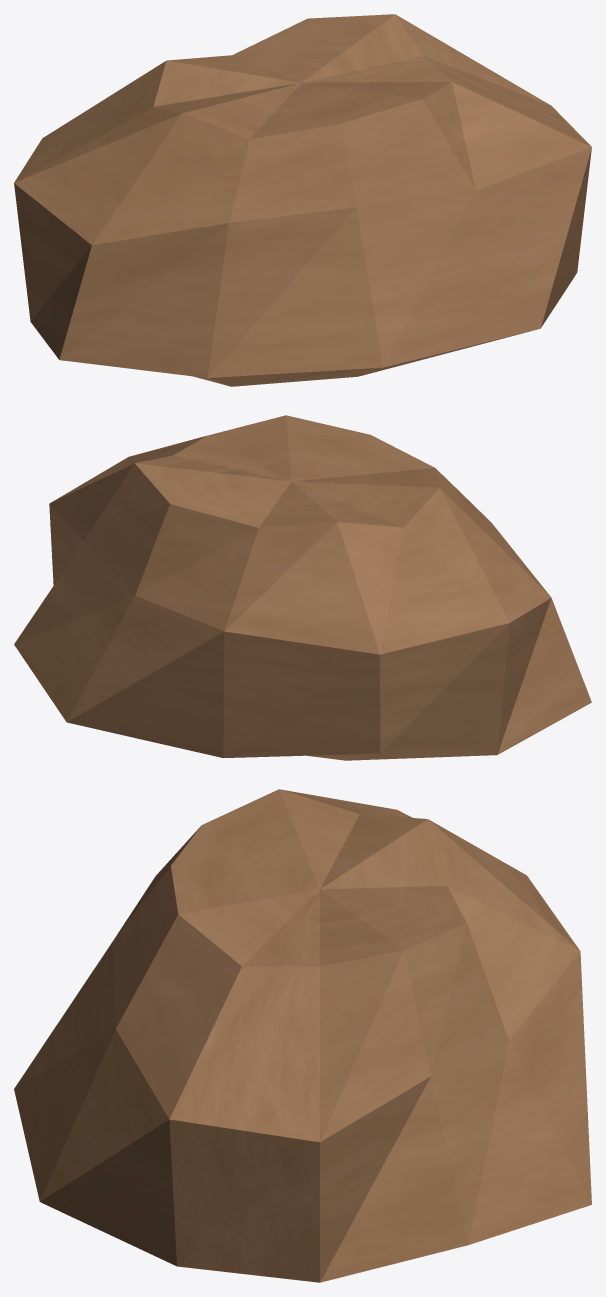
The model's file is SM_CN_Sandstone_A.fbx.
3 renders of one model, top to bottom at view 1: azimuth 30°, elevation 25°; view 2: azimuth 150°, elevation 25°; view 3: azimuth 270°, elevation 25°, orthographic. The views are drawn at different scales.
Visible parts, largest first — view 1: SM_CN_Sandstone_A; view 2: SM_CN_Sandstone_A; view 3: SM_CN_Sandstone_A.
Boxes of the visible parts, <box> form: SM_CN_Sandstone_A: <box>14,14,591,386</box>; SM_CN_Sandstone_A: <box>14,415,591,760</box>; SM_CN_Sandstone_A: <box>14,789,591,1282</box>.
Bounding box in the file's own units: 1.2 × 0.9283 × 0.52.
